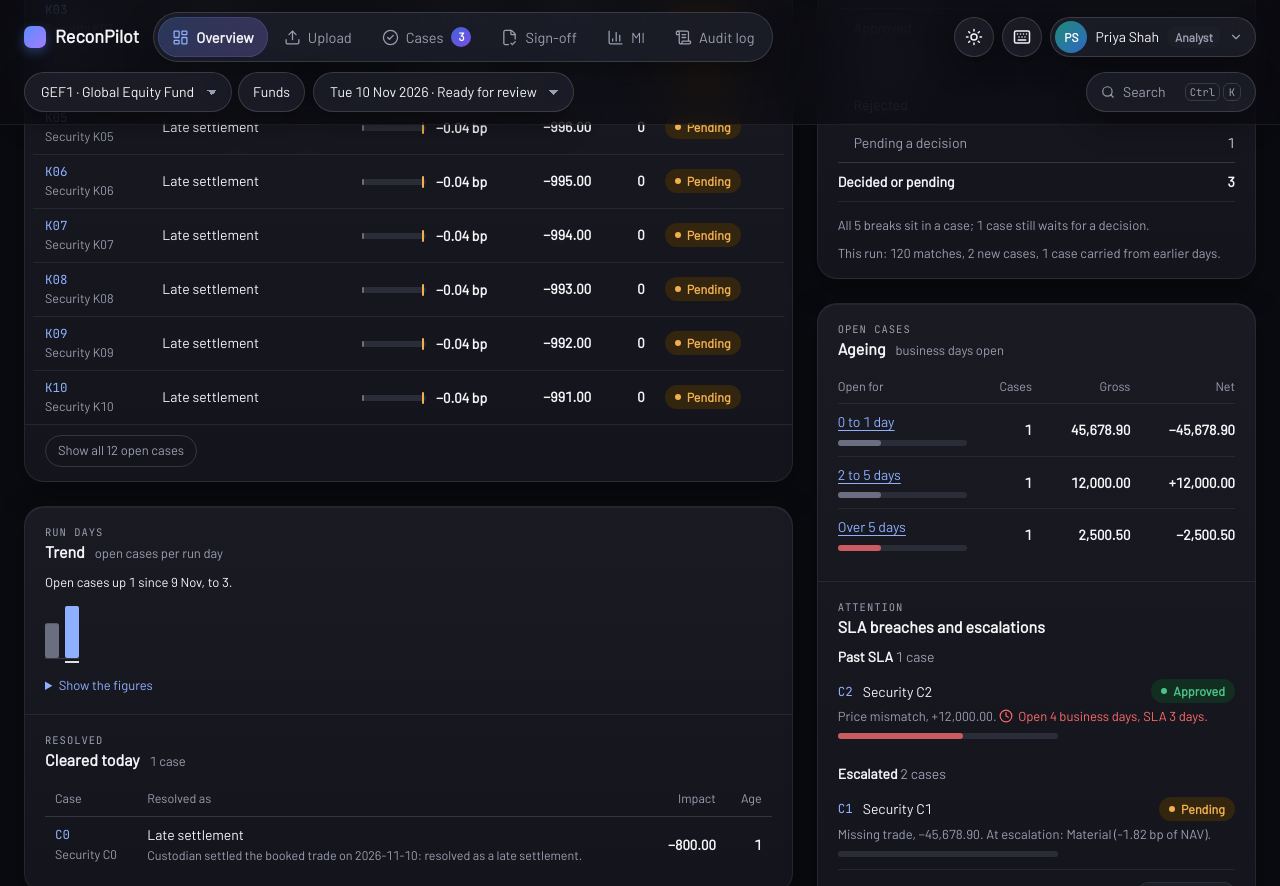
Test case: Morning overview › shows the ten largest open breaks and the rest on demand
(page scrolled)
What coordinates should you click on to do the following:
click the button "Show all 12 open cases"
I would click on:
 (121, 451)
Its box is x1=45 y1=435 x2=197 y2=467.
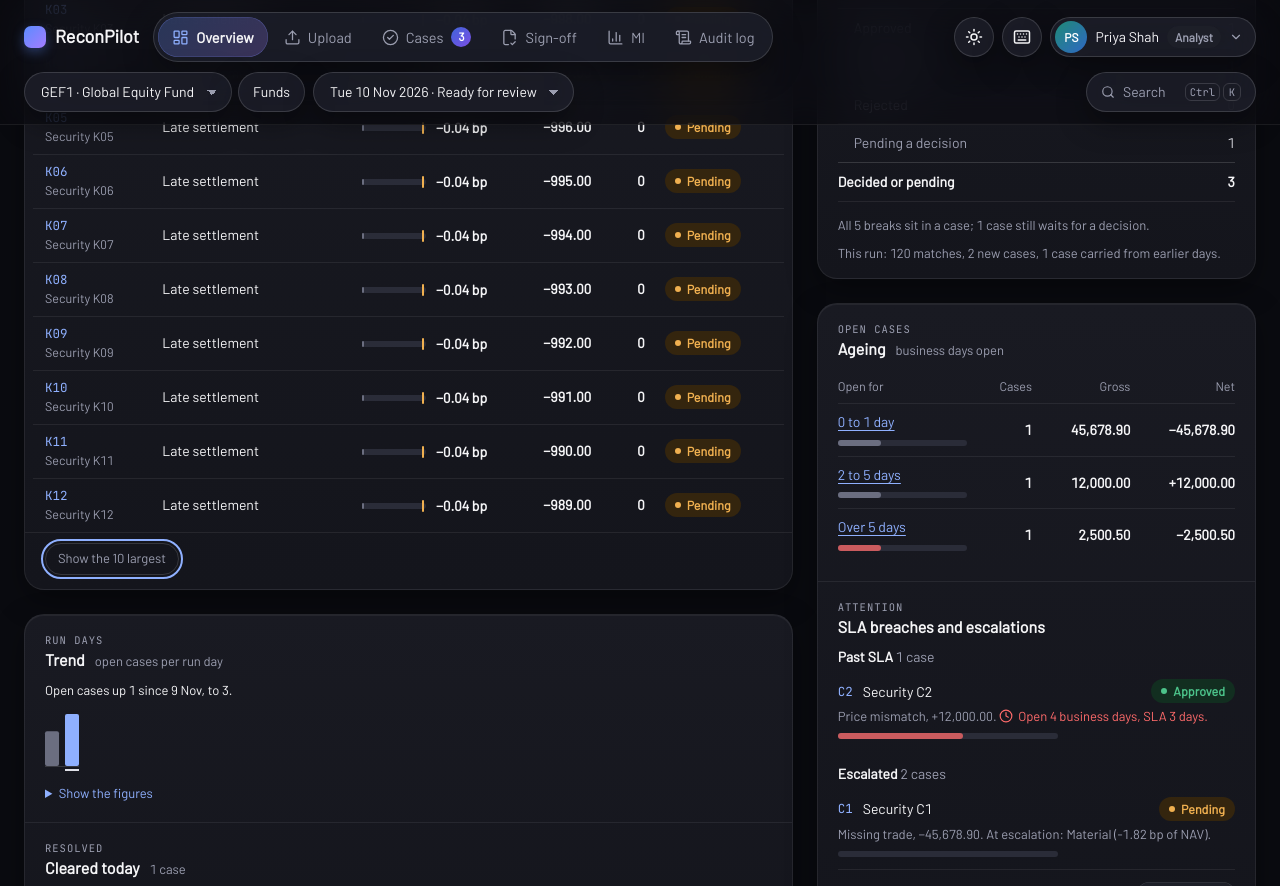
Expected: the button "Show the 10 largest" is expanded, x1=45 y1=543 x2=179 y2=575
